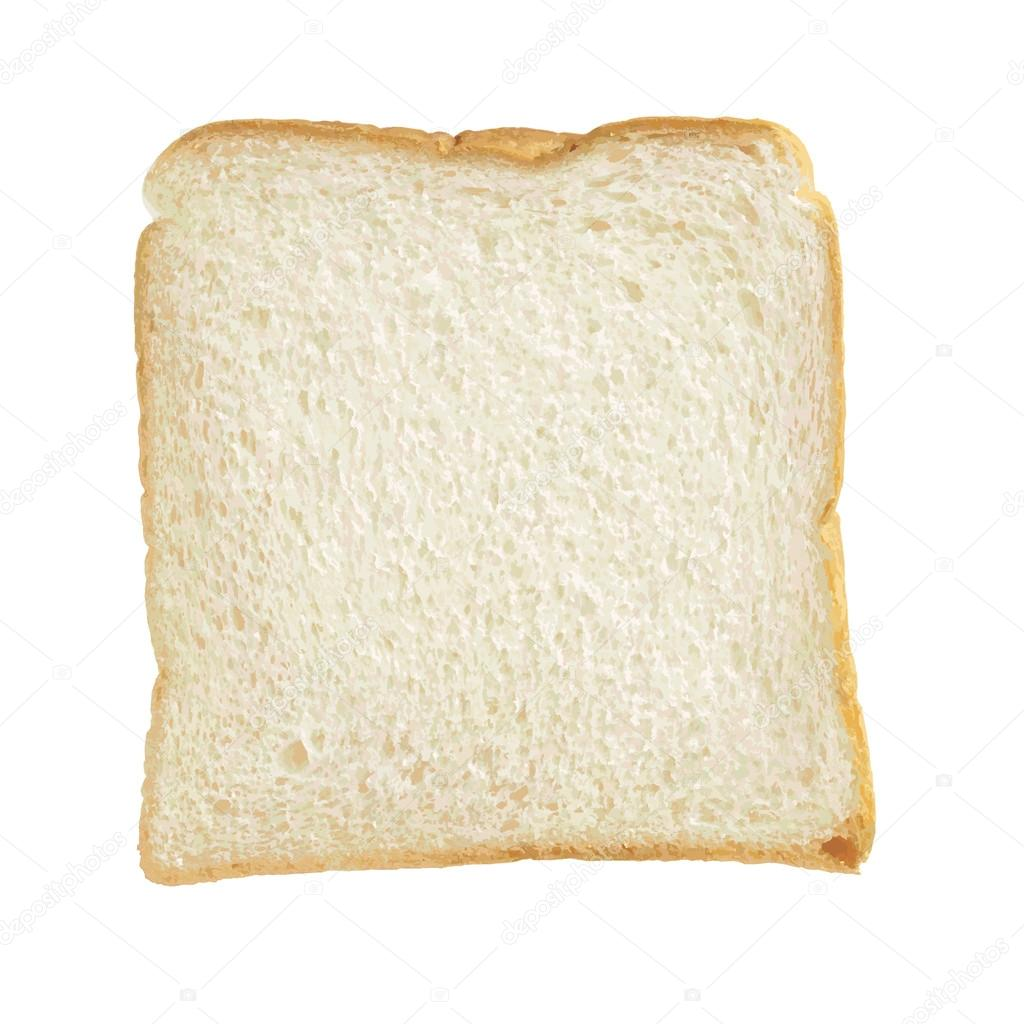slice of bread: (134, 150, 868, 868)
